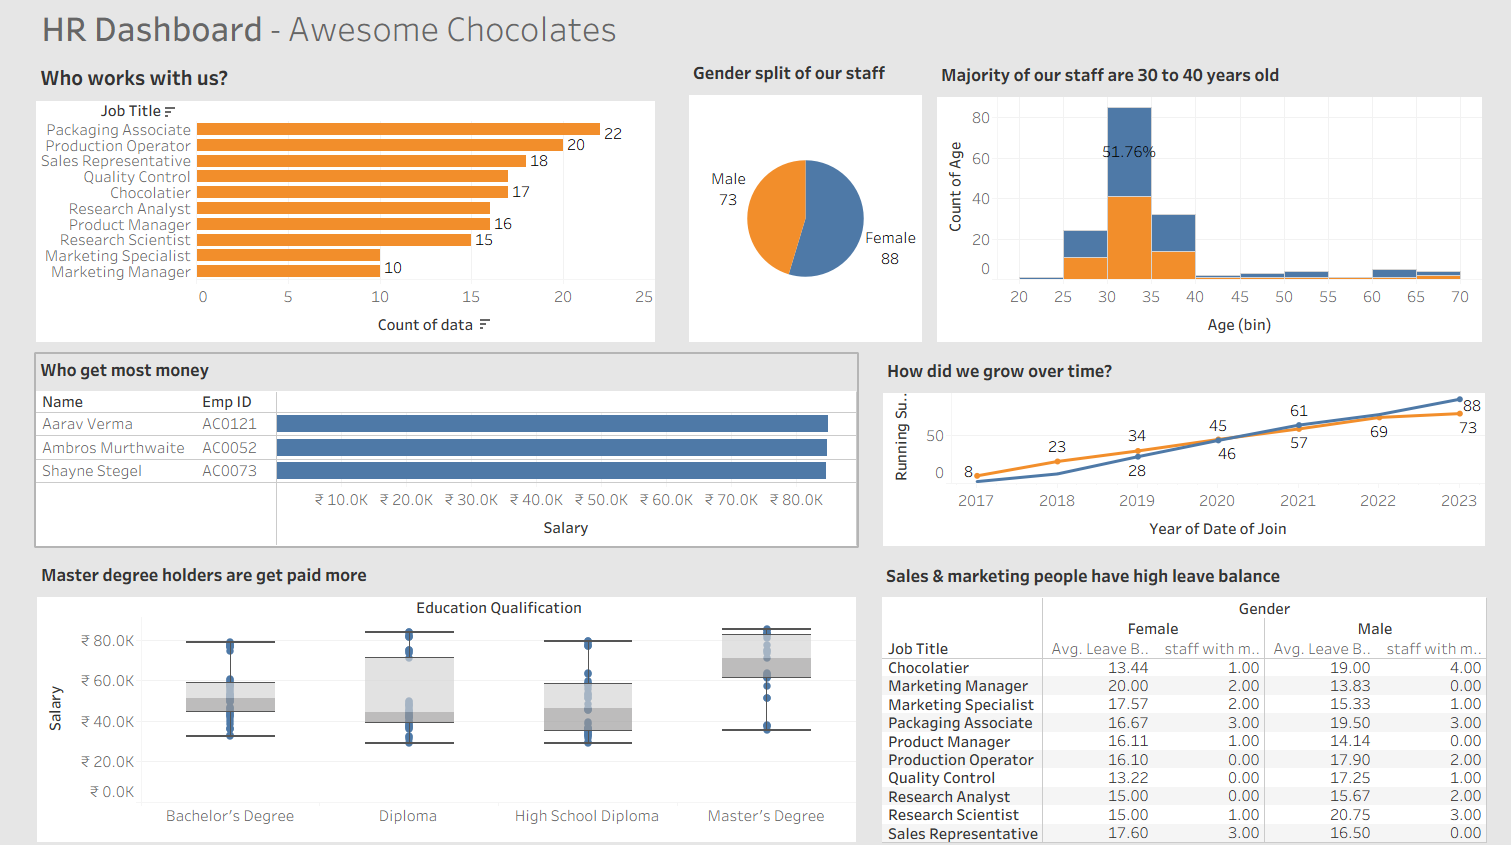

This screenshot's page, from the dashboard's own definition file:
{"tool":"tableau","page":{"name":"Dashboard 1","canvas":[1000,1000],"units":"permille","ordinal":0},"visuals":[{"type":"text","box":[31.2,9.4,849.7,59.9]},{"type":"worksheet","title":"Sheet 2","mark":"Pie","box":[428.8,74,142.3,334.9]},{"type":"worksheet","title":"Sheet 1","mark":"Automatic","rows":["Job Title"],"cols":["data_D6FC5025B6C74D4F92C1C18F5474BCFB"],"box":[29.9,76.4,378.1,332.6]},{"type":"worksheet","title":"Q3: Age spread of our staff ","mark":"Automatic","rows":["Age"],"cols":["Age (bin)"],"box":[580.3,76.4,332.9,332.6]},{"type":"worksheet","title":"Top earner by job","mark":"Automatic","rows":["Name","Emp ID"],"cols":["Salary"],"box":[29.9,423,501.5,225.6]},{"type":"worksheet","title":"Staff growth","mark":"Automatic","rows":["data_D6FC5025B6C74D4F92C1C18F5474BCFB"],"cols":["Date of Join"],"box":[547.3,424.2,367.8,224.4]},{"type":"legend","title":"Sheet 2","param":"[federated.1eirddu1noaf6t1co57df0n7ykxx].[none:Gender:nk]","box":[821.6,499.4,85.5,75.2]},{"type":"worksheet","title":"Qualification vs salary","mark":"Circle","rows":["Salary"],"cols":["Education Qualification"],"box":[30.5,663.9,500.3,332.6]},{"type":"worksheet","title":"Leave balance analysis","mark":"Automatic","rows":["Job Title"],"cols":["Gender"],"box":[546.7,665.1,369.6,332.6]}]}

Visuals, with their boxes on the dashboard's canvas, which has no fixed pixel size, in thousandths of its width and height (x1, y1, x2, y2). These are canvas units, not pixel positions in the 1511x845 screenshot, which may show the page scaled, cropped or inside an application window:
text: rect(31, 9, 881, 69)
"Sheet 2" worksheet (Pie marks): rect(429, 74, 571, 409)
"Sheet 1" worksheet: rect(30, 76, 408, 409)
"Q3: Age spread of our staff " worksheet: rect(580, 76, 913, 409)
"Top earner by job" worksheet: rect(30, 423, 531, 649)
"Staff growth" worksheet: rect(547, 424, 915, 649)
"Sheet 2" legend: rect(822, 499, 907, 575)
"Qualification vs salary" worksheet (Circle marks): rect(30, 664, 531, 996)
"Leave balance analysis" worksheet: rect(547, 665, 916, 998)
